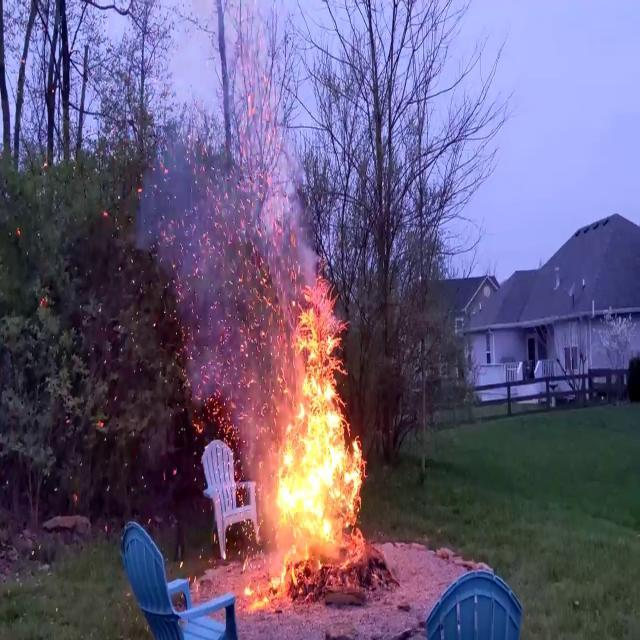Fire: (260, 277, 370, 571)
Smoke: (124, 90, 299, 366)
